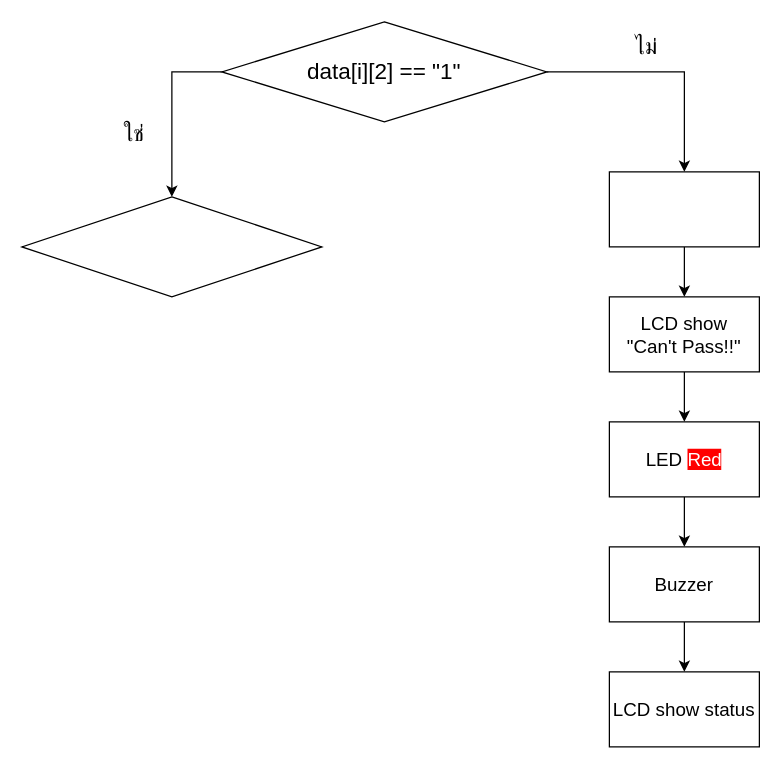
Image size: 781x769. Some labels were removed from this diagram. The shapes that lost their labels are listed below. From the top down, each one's centre as x and y in pixels, then its label:
the point at 683,209: LCD show "Waiting.."
the point at 171,246: data[i][3] == "0"
